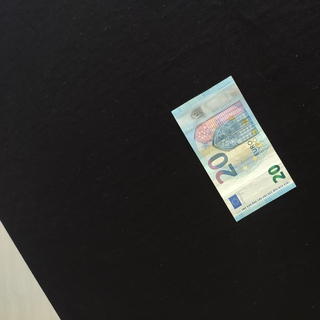20EUROFront: (170, 75, 296, 222)
